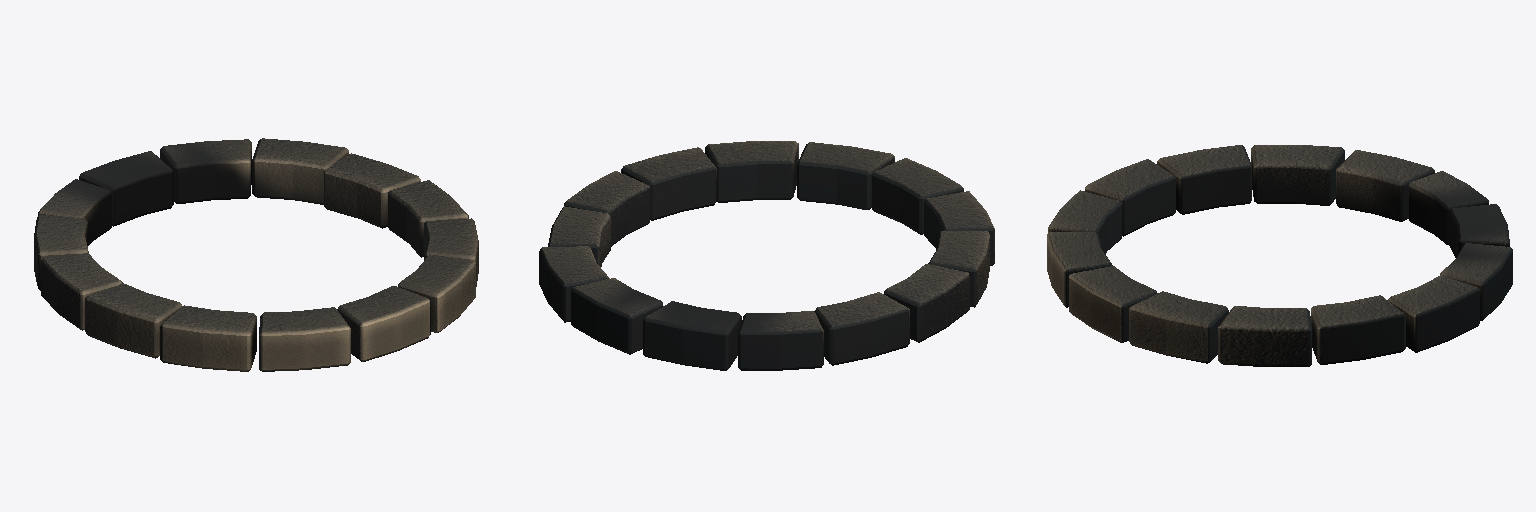
The picture shows the model from 3 angles: view 1: azimuth 30°, elevation 25°; view 2: azimuth 150°, elevation 25°; view 3: azimuth 270°, elevation 25°; orthographic projection.
Visible parts, largest first — view 1: pCube21; view 2: pCube21; view 3: pCube21.
Part boxes in pixels (x1,y1,x2,y2): pCube21: (34, 138, 478, 371); pCube21: (539, 141, 994, 370); pCube21: (1047, 145, 1512, 366).
Bounding box in the file's own units: 2.47 × 0.2486 × 2.64.
1 materials, 1 textured.